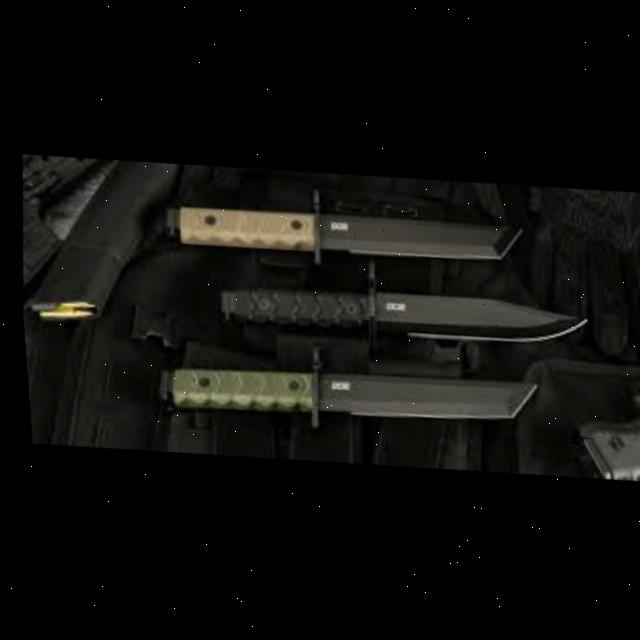Knife: (161, 354, 536, 434), (214, 277, 586, 350), (158, 197, 524, 268)
